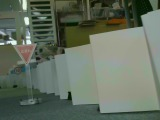stop: (10, 43, 38, 66)
